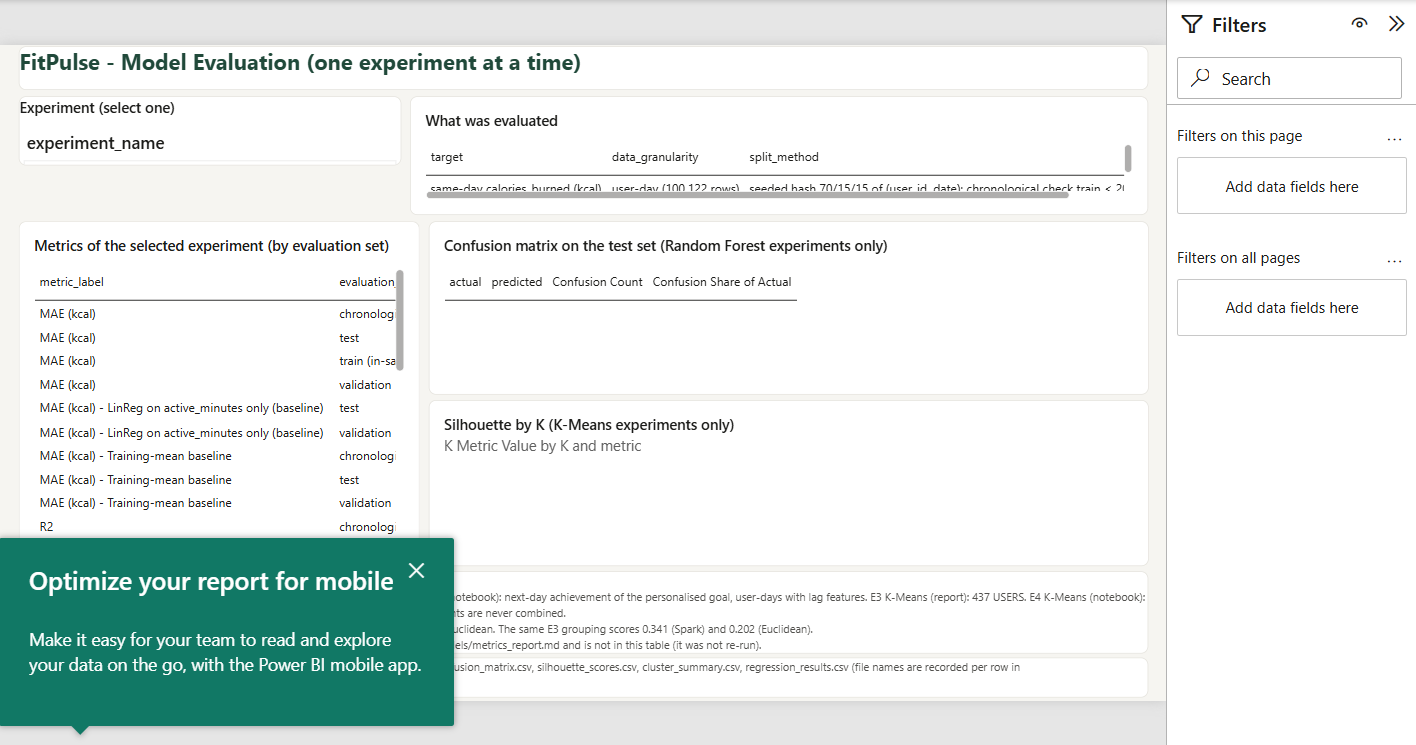

What the dashboard file says about the page in this screenshot:
{"tool":"powerbi","page":{"name":"Model Evaluation","canvas":[1280,720],"ordinal":4},"visuals":[{"type":"textbox","box":[20,2,1240,48],"z":1000},{"type":"slicer","title":"Experiment (select one)","fields":{"Values":["experiments.experiment_name"]},"box":[20,56,420,76],"z":2000},{"type":"tableEx","title":"What was evaluated","fields":{"Values":["experiments.target","experiments.data_granularity","experiments.split_method"]},"box":[450,56,810,130],"z":3000},{"type":"tableEx","title":"Metrics of the selected experiment (by evaluation set)","fields":{"Values":["model_evaluation.metric_label","model_evaluation.evaluation_set","model_evaluation.Metric Value"]},"box":[20,194,500,378],"z":4000},{"type":"tableEx","title":"Confusion matrix on the test set (Random Forest experiments only)","fields":{"Values":["confusion_matrices.actual","confusion_matrices.predicted","confusion_matrices.Confusion Count","confusion_matrices.Confusion Share of Actual"]},"box":[530,194,730,190],"z":5000},{"type":"lineChart","title":"Silhouette by K (K-Means experiments only)","fields":{"Category":["kmeans_k_selection.K"],"Series":["kmeans_k_selection.metric"],"Y":["kmeans_k_selection.K Metric Value"]},"box":[530,390,730,182],"z":6000},{"type":"textbox","box":[20,578,1240,90],"z":7000},{"type":"textbox","box":[20,672,1240,44],"z":8000}]}

Visuals, with their boxes on the page's 1280x720 design canvas (x1, y1, x2, y2). These are canvas units, not pixel positions in the 1416x745 screenshot, which may show the page scaled, cropped or inside an application window:
textbox: 20/2/1260/50
"Experiment (select one)" slicer: 20/56/440/132
"What was evaluated" tableEx: 450/56/1260/186
"Metrics of the selected experiment (by evaluation set)" tableEx: 20/194/520/572
"Confusion matrix on the test set (Random Forest experiments only)" tableEx: 530/194/1260/384
"Silhouette by K (K-Means experiments only)" lineChart: 530/390/1260/572
textbox: 20/578/1260/668
textbox: 20/672/1260/716
